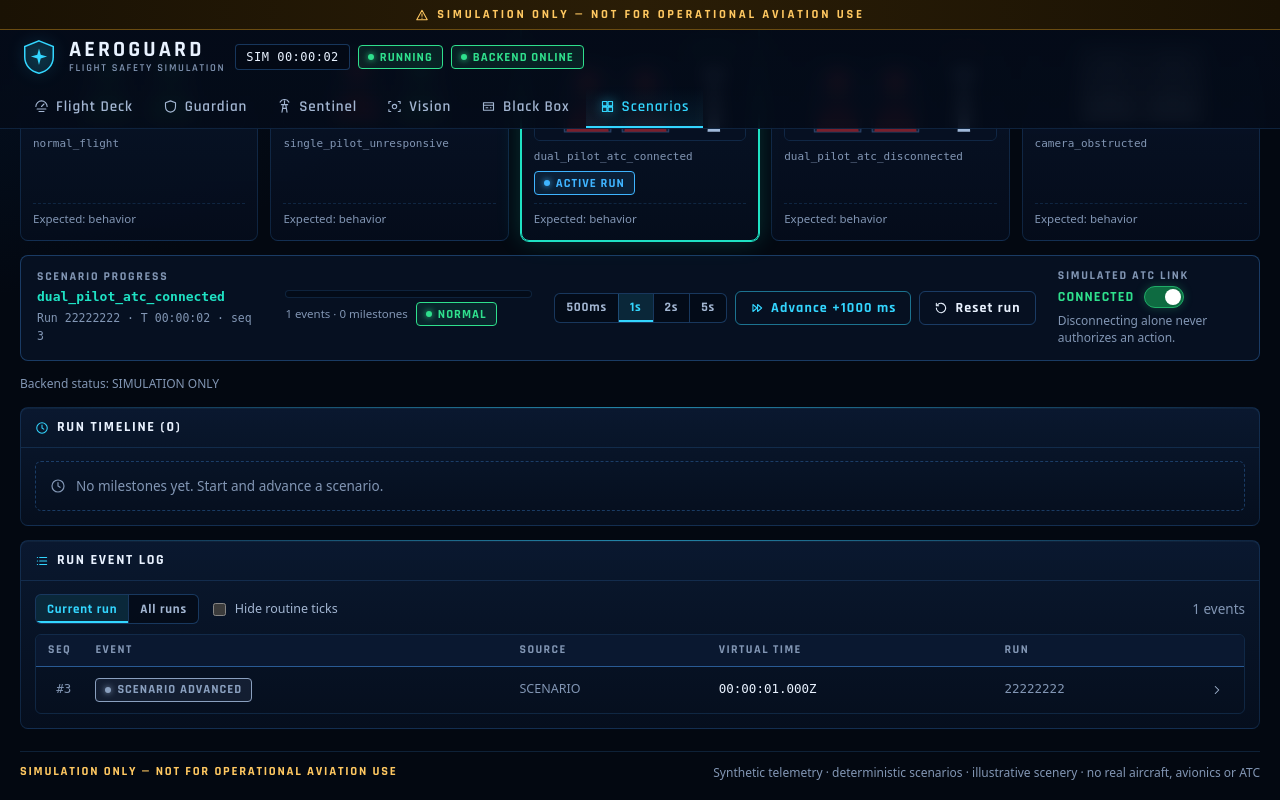
Test case: ISSUE 1 REGRESSION: Audit history cursor pagination & event retention › does not incorrectly attribute events from a previous scenario to the current scenario
(page scrolled)
Expected: the text "#3" is shown, x1=36 y1=666 x2=83 y2=712
Expected: the text "#1" is not shown
Note: Clicking "All runs" shows both runs
Click the button "All runs": [163, 609] box x1=128 y1=595 x2=198 y2=623
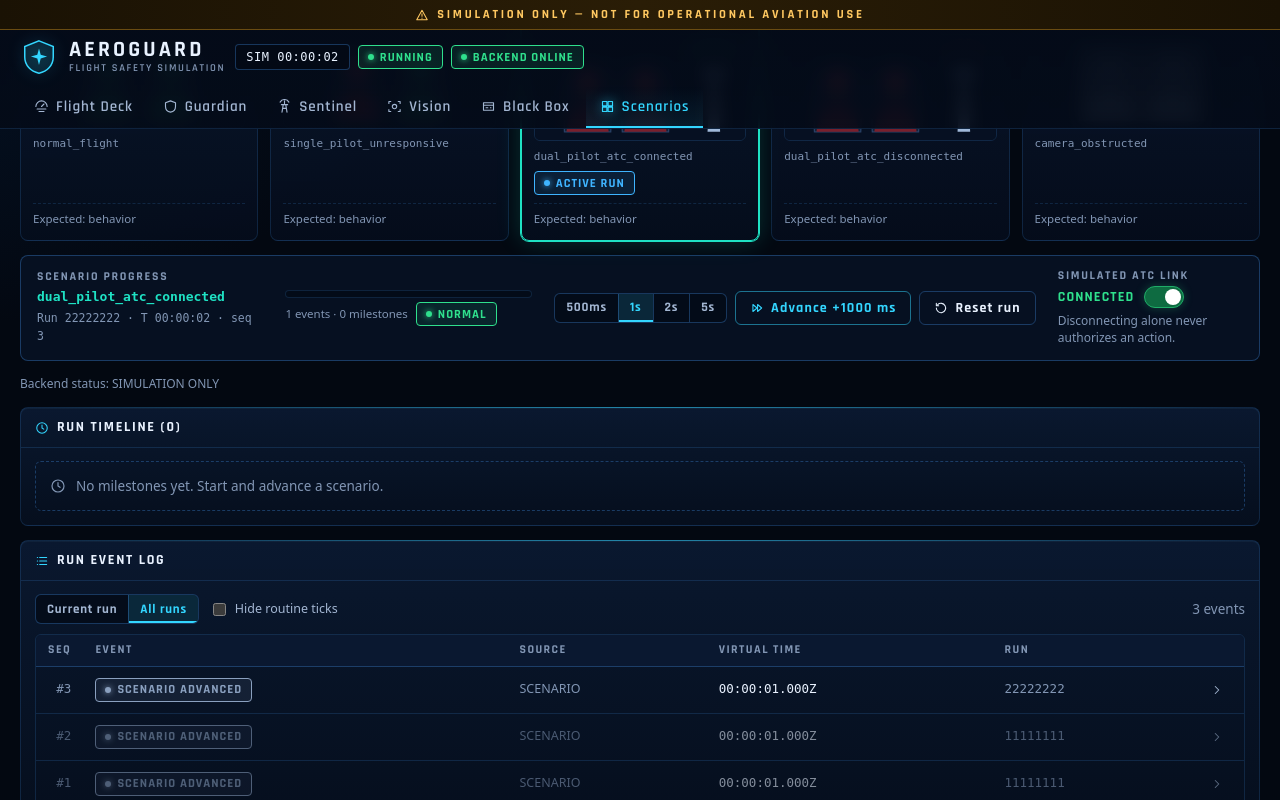
Expected: the text "#3" is shown, x1=36 y1=666 x2=83 y2=713
Expected: the text "#2" is shown, x1=36 y1=713 x2=83 y2=760
